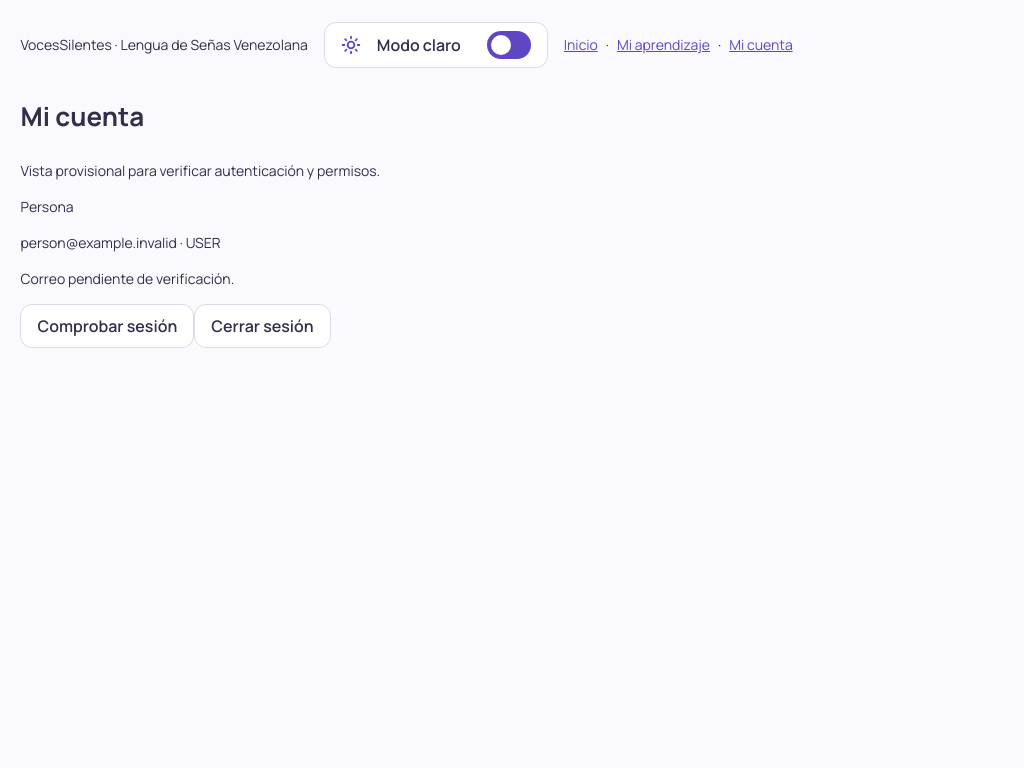
Test case: logout: un fallo de red conserva estado; éxito posterior lo limpia
The image size is (1024, 768).
expect the heading "Mi cuenta" is shown: met, box [20,98,144,134]
Click the button "Cerrar sesión" at (262, 326), box [194,304,331,348]
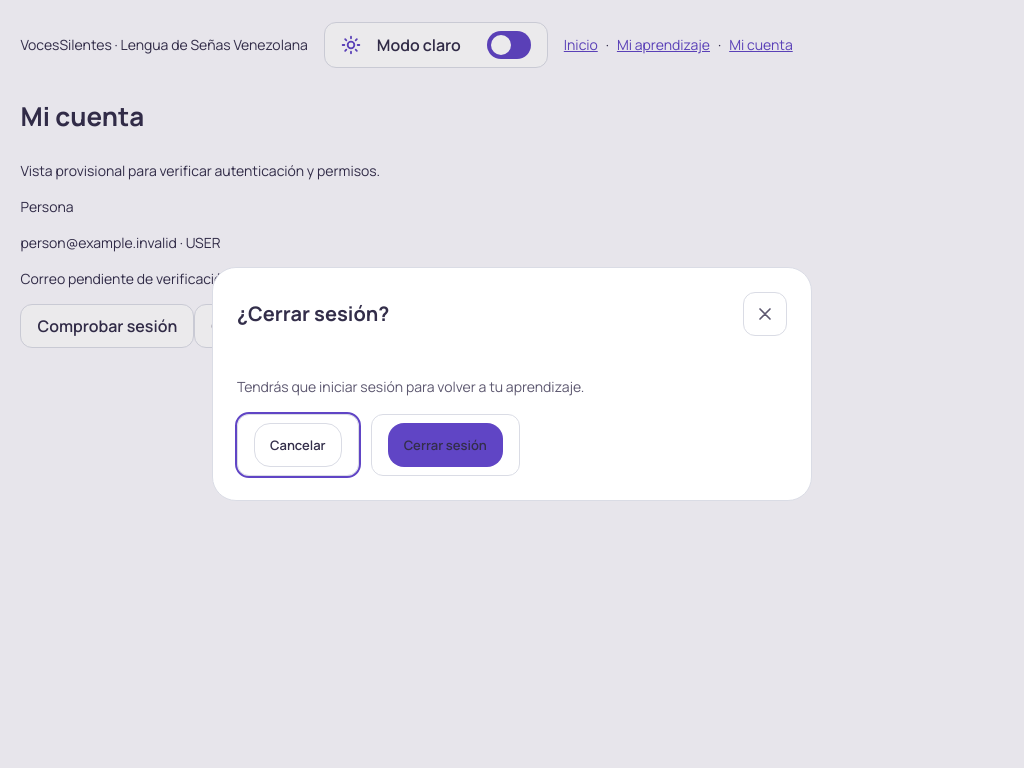
Click the button "Cerrar sesión" below "Tendrás que iniciar sesión para volver" at (445, 445), box [371,414,520,476]
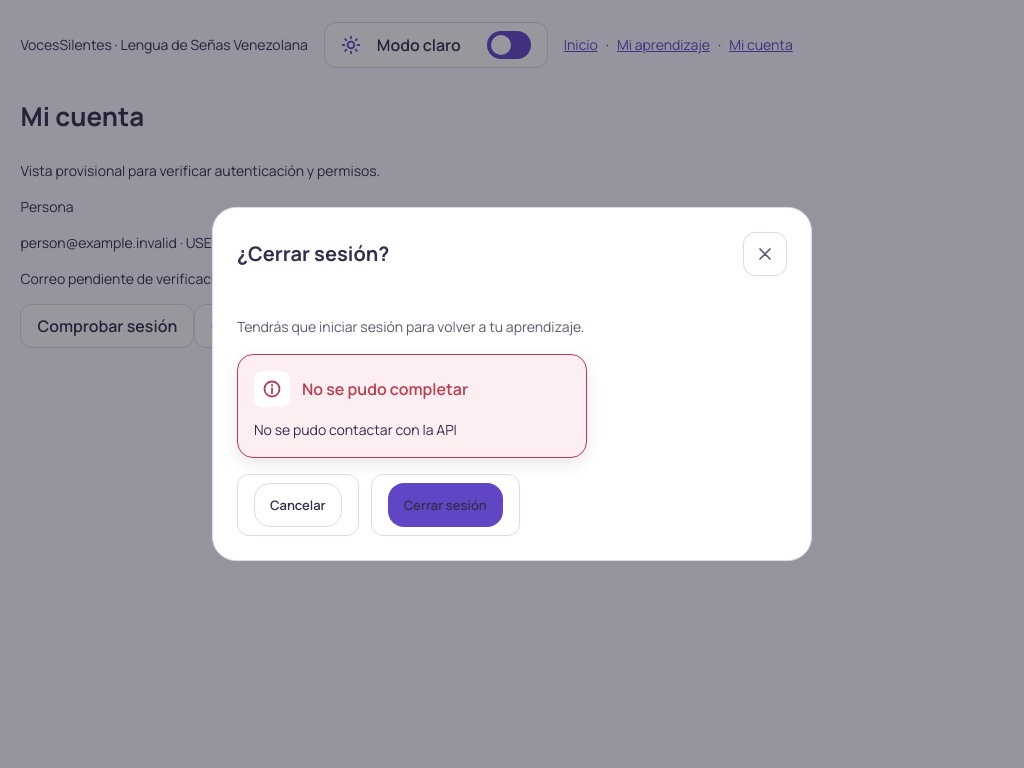
expect the heading "Mi cuenta" is shown: met, box [20,98,144,134]
expect the message shows "No se pudo contactar con la API": met, box [254,420,457,439]
Click the button "Cerrar sesión" below "No se pudo contactar con la API" at (445, 505), box [371,474,520,536]
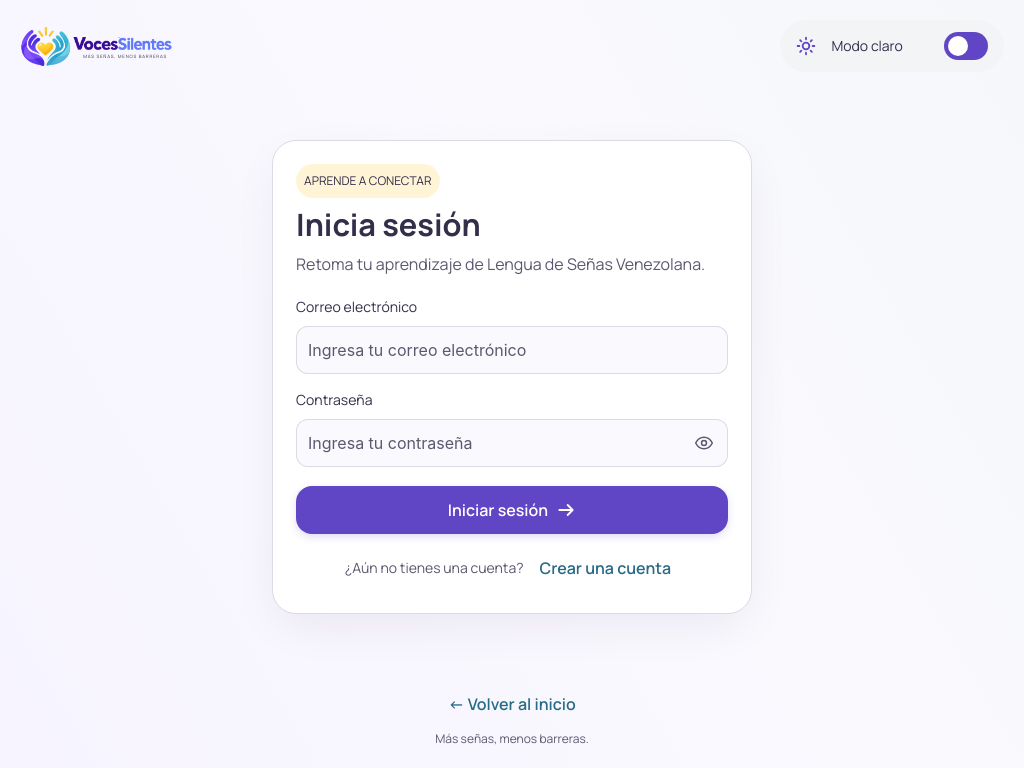
expect the heading "Inicia sesión" is shown: met, box [296,206,481,243]
